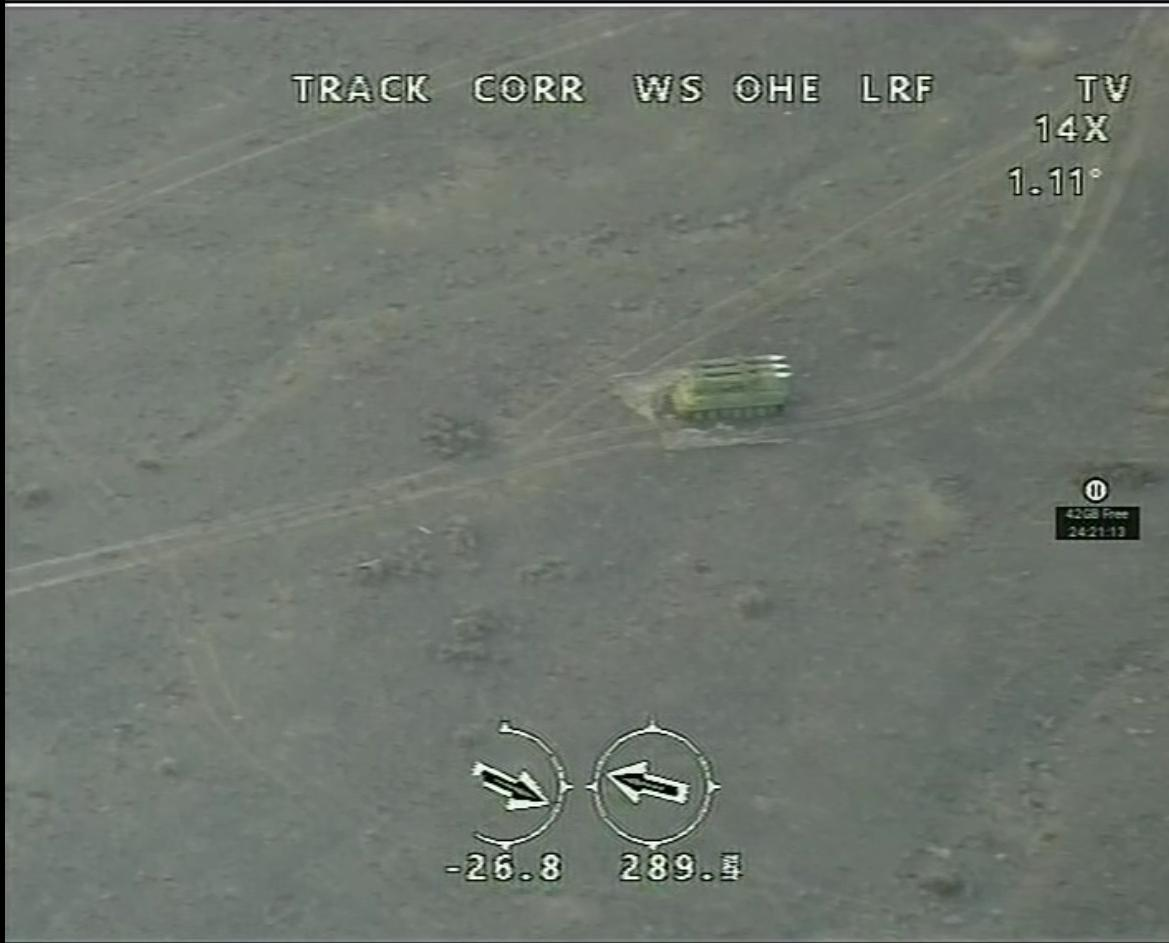armored_car: (670, 348, 795, 422)
